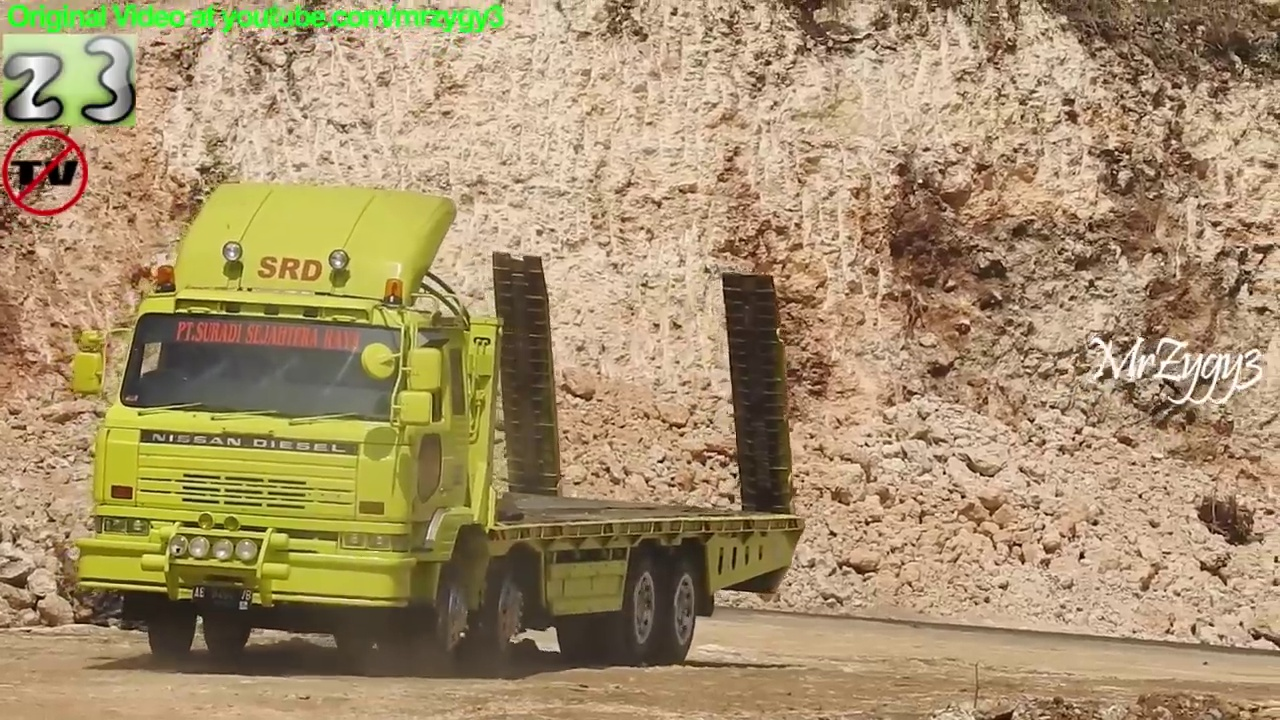truck: (65, 169, 810, 685)
